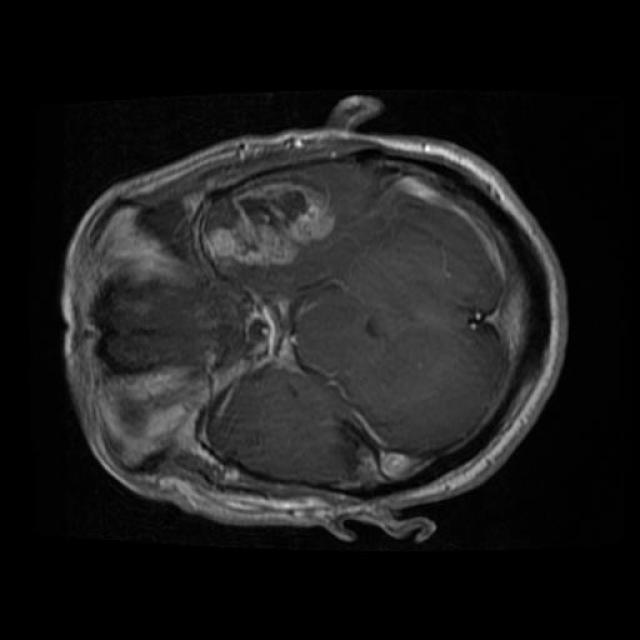Glioma: (198, 182, 334, 269)
